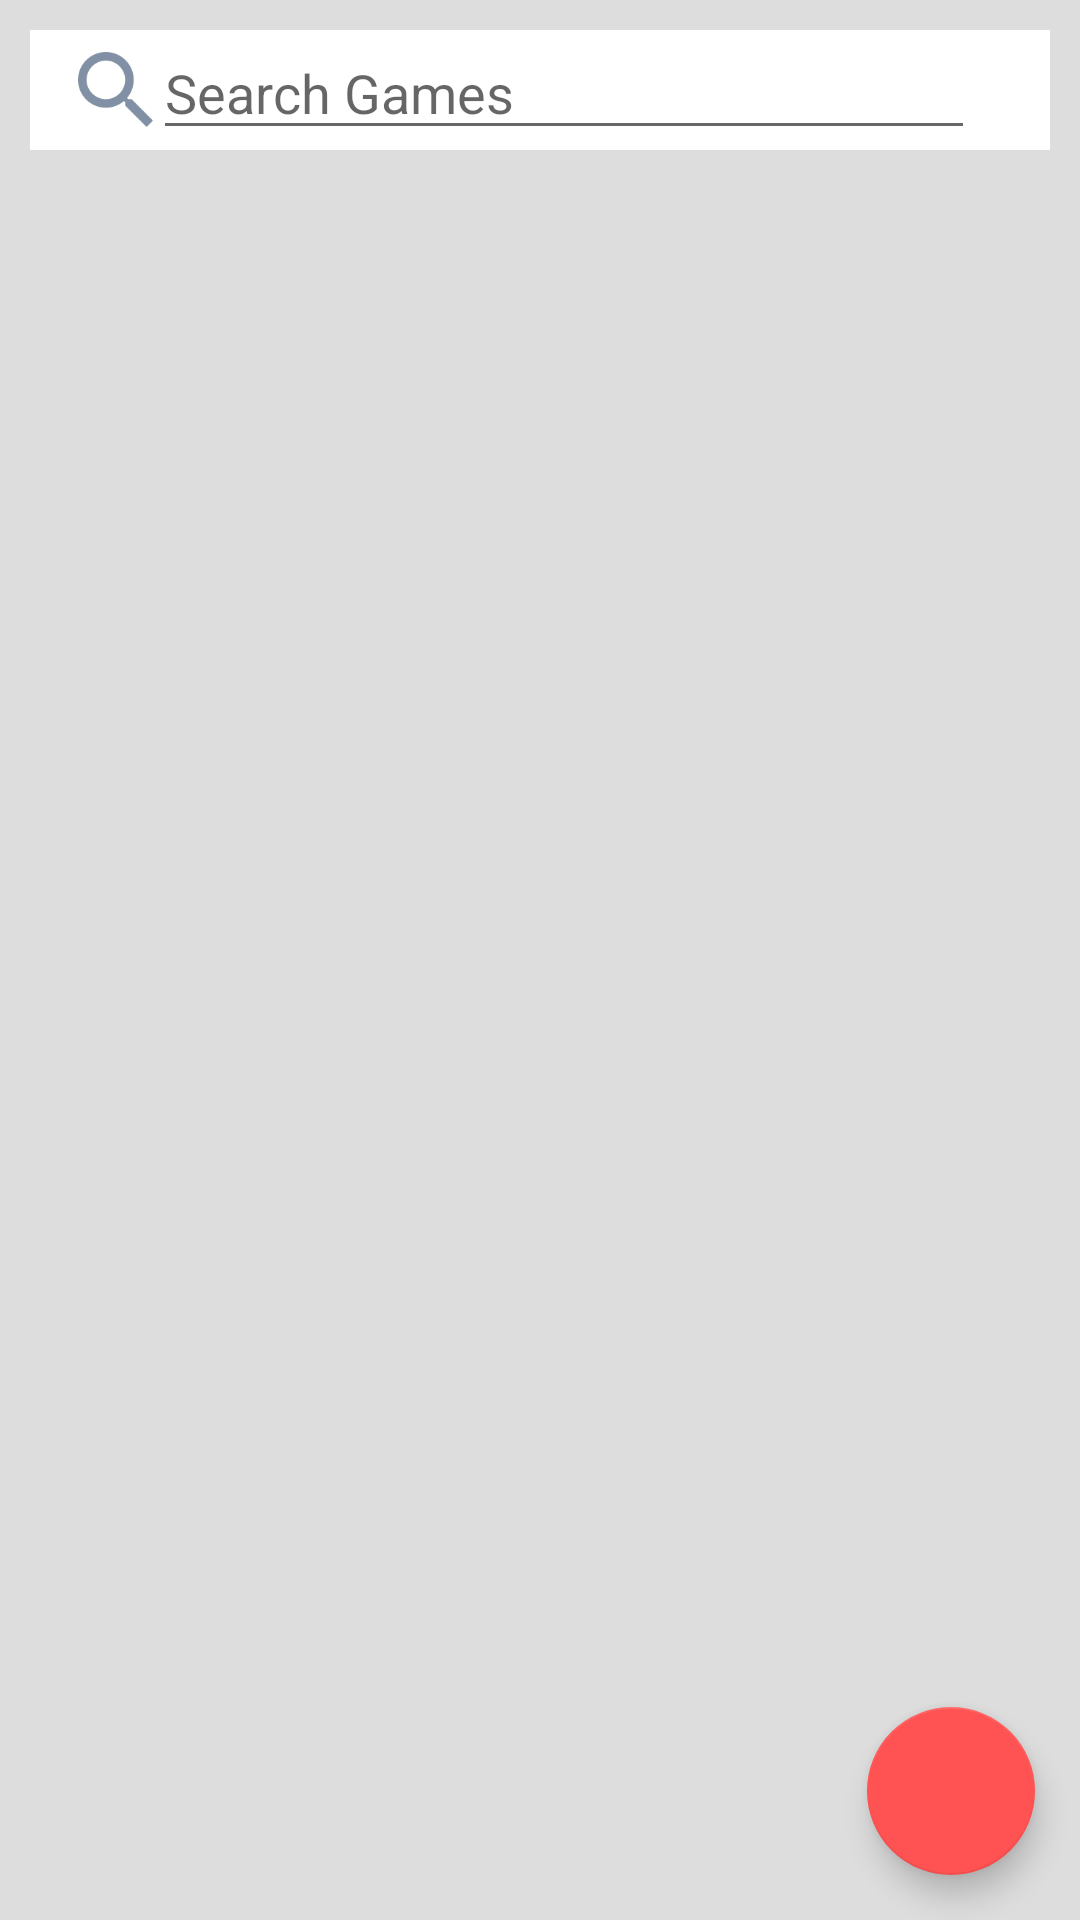

Where icons sit on this 1080px x 1920px app screen, as (x1, y1, x2, y2):
lupa: (78, 52, 153, 127)
